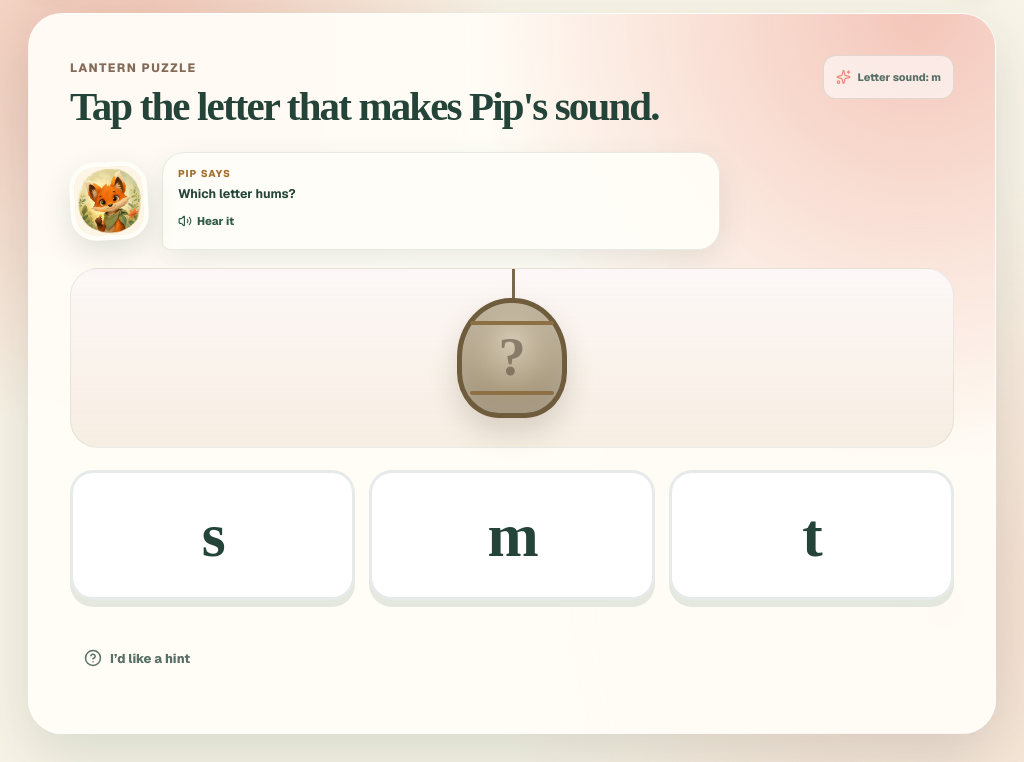
Test: session flow › resets the hint ladder between activities
The image size is (1024, 762).
(page scrolled)
Click the button "I’d like a hint". click: (137, 658)
box: [70,634,204,682]
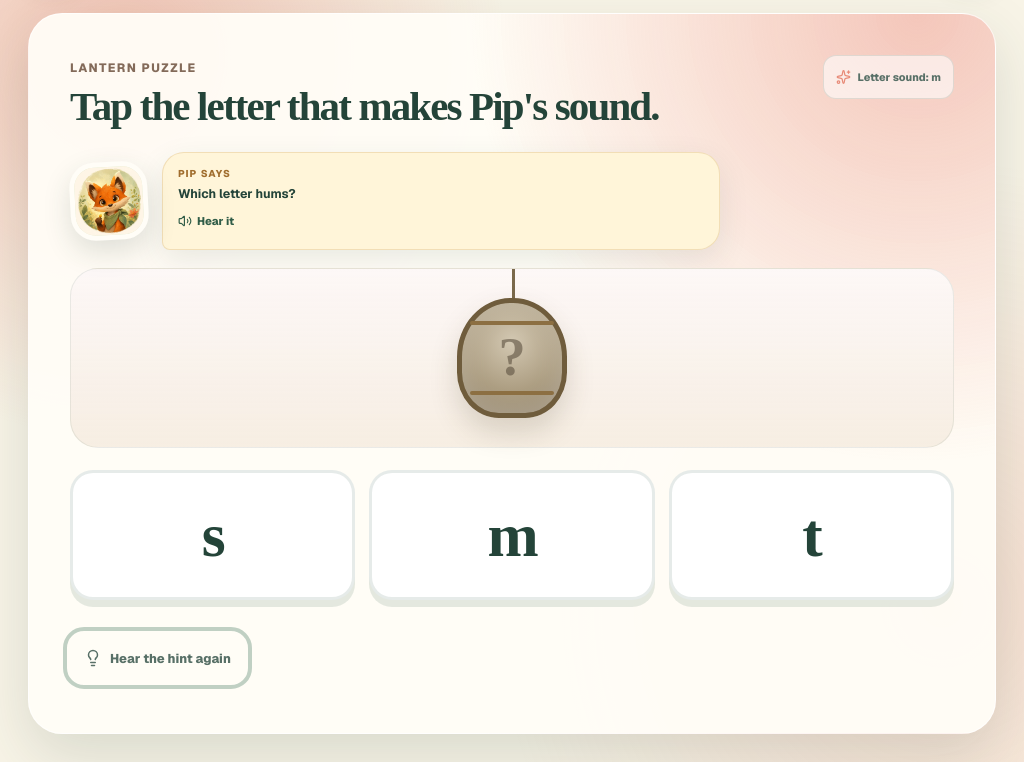
Click the button "Hear the hint again". click: (158, 658)
box: [70,634,245,682]
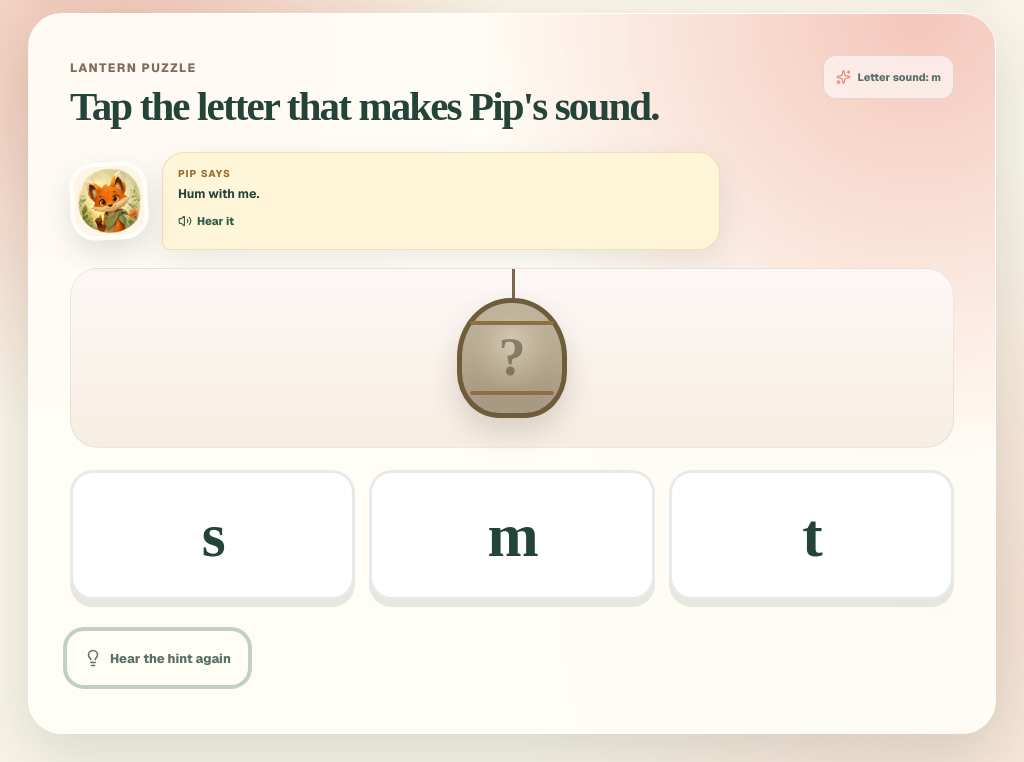
Click the button "Hear the hint again". click: (158, 658)
box: [70,634,245,682]
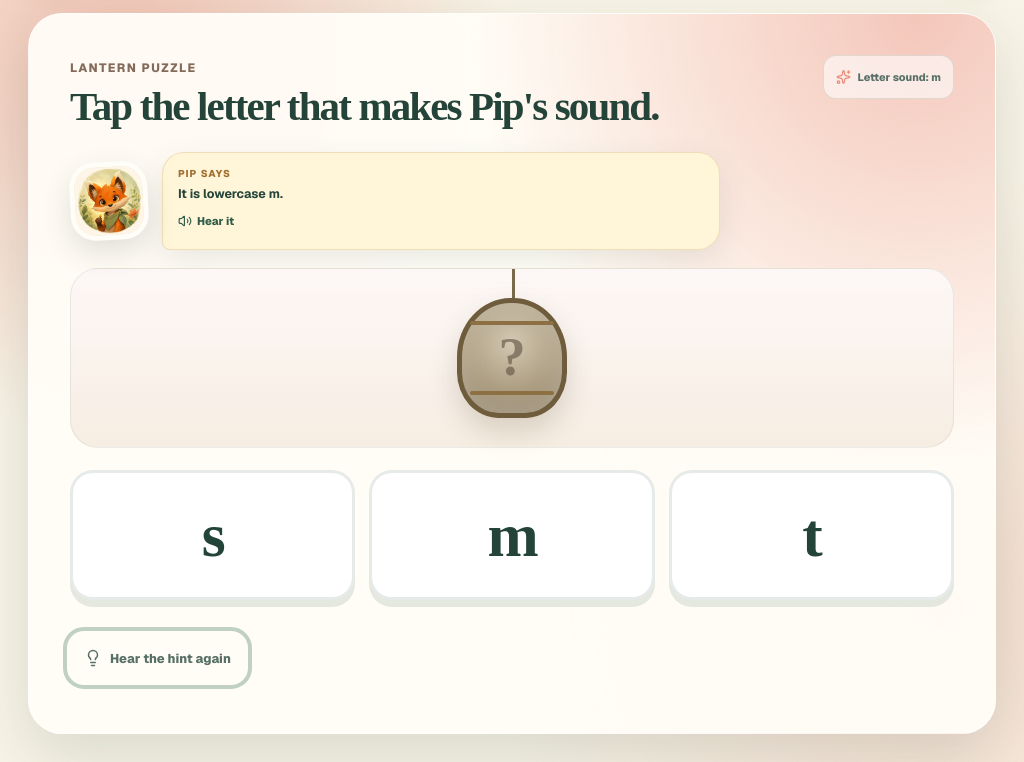
Click the button "Hear the hint again". click: (158, 658)
box: [70,634,245,682]
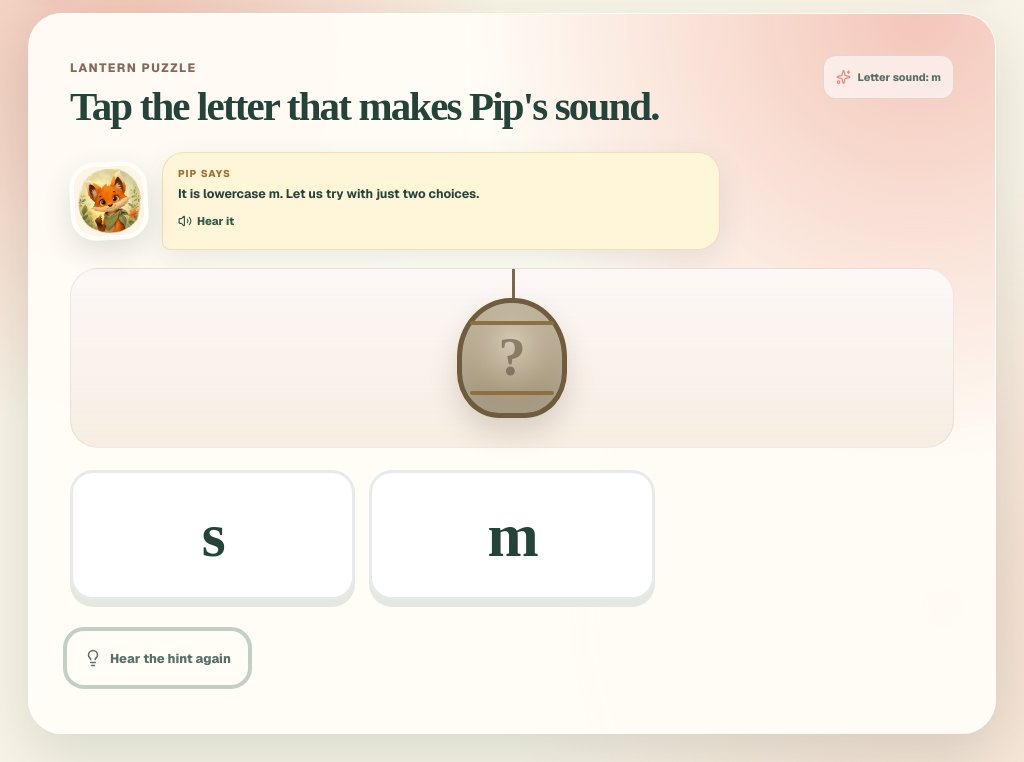
Click the button "m". click: (512, 535)
box: [369,470,655,600]
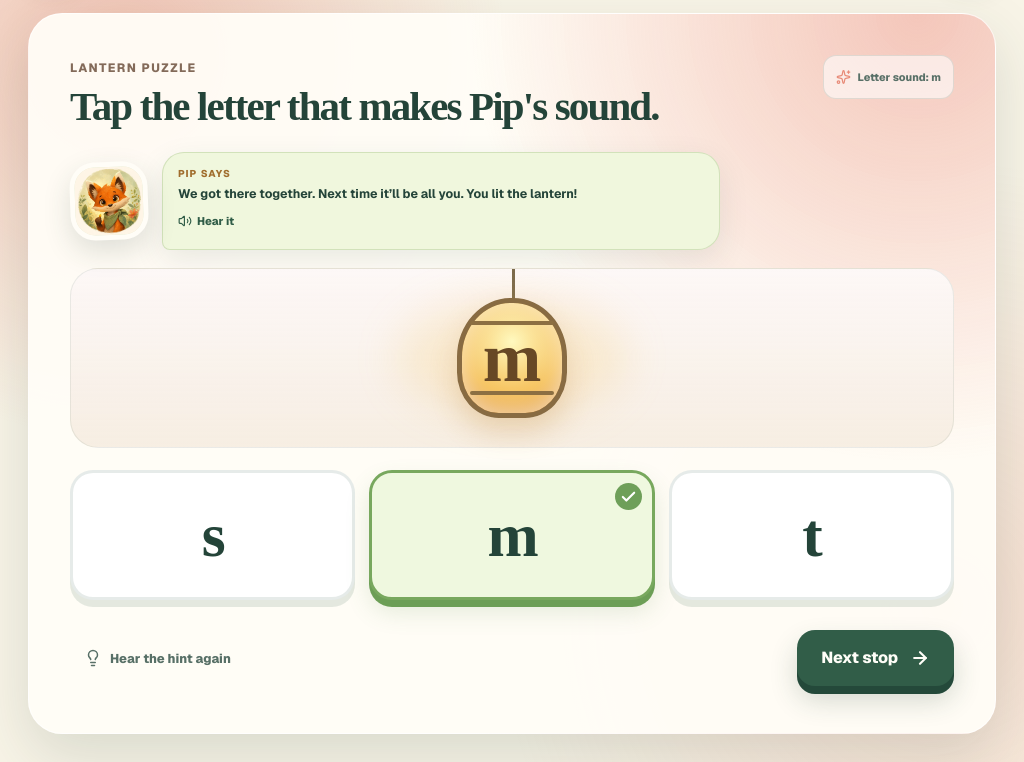
Click the button "Next stop". click: (876, 658)
box: [797,630,954,686]
(page scrolled)
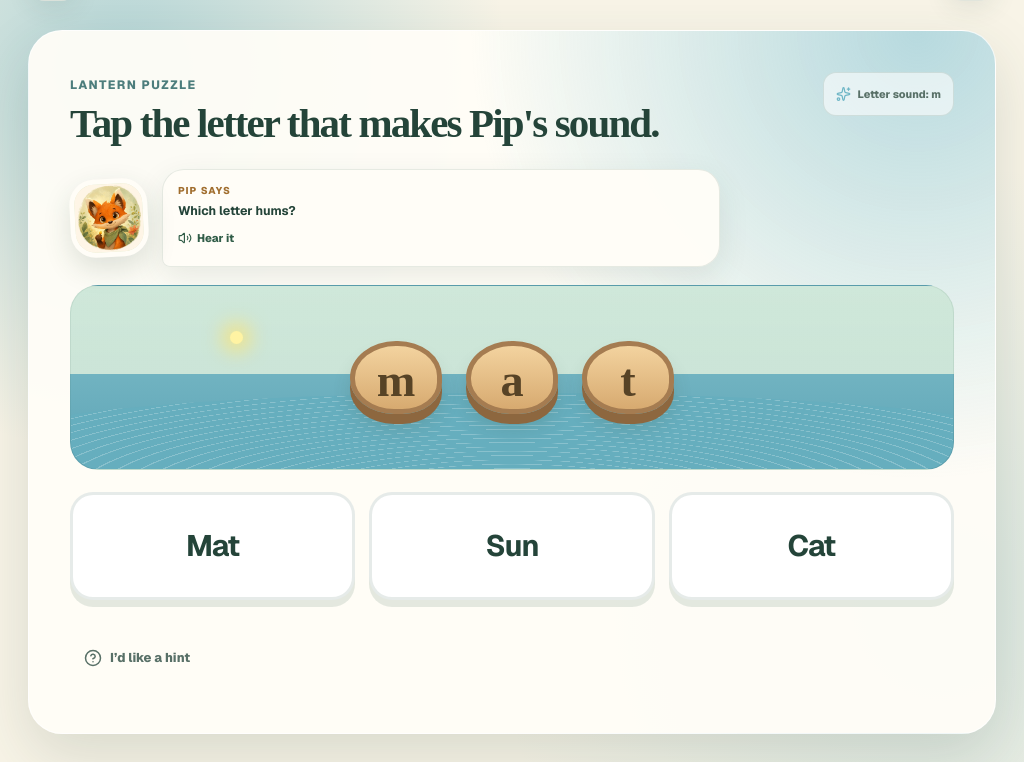
Expected: the button "Hear the hint again" is gone
